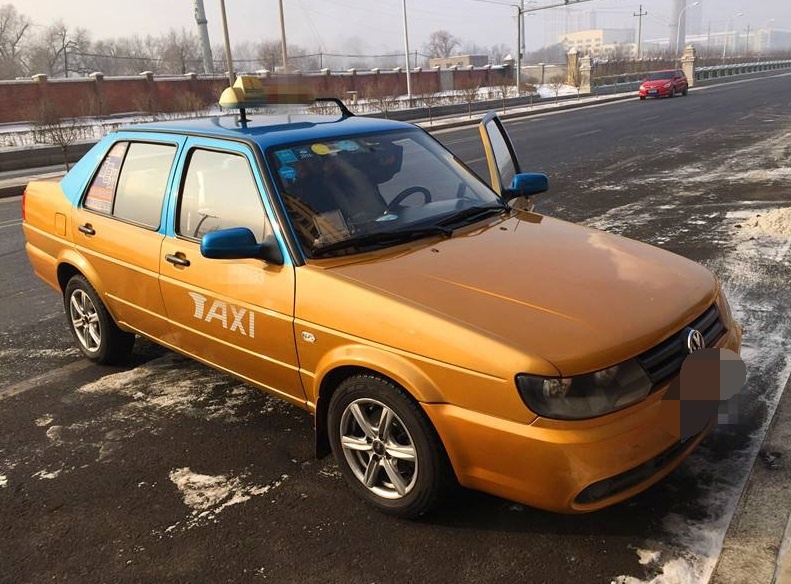taxi: (38, 72, 734, 501)
